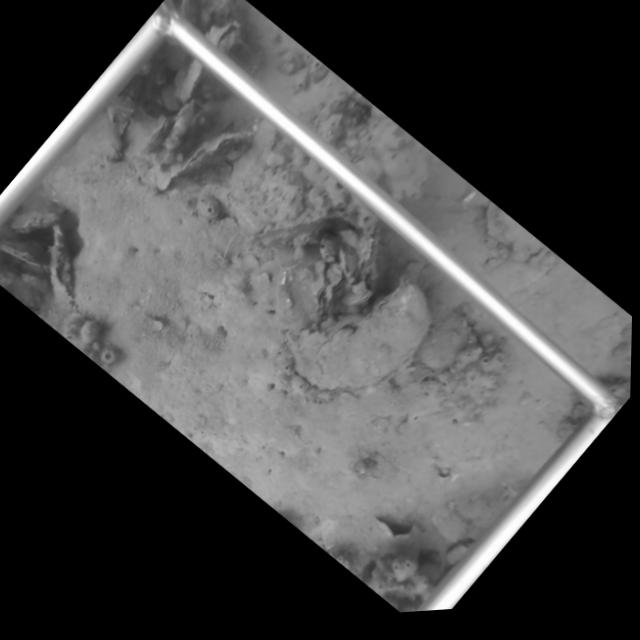Oyster-Closed: (281, 277, 435, 393), (151, 129, 253, 198), (43, 224, 85, 317), (12, 196, 68, 237), (355, 218, 381, 283), (0, 239, 44, 271), (309, 255, 328, 327), (180, 60, 210, 104), (338, 286, 374, 309)
Oyster-Indeterminate: (481, 201, 550, 258), (419, 312, 476, 371), (104, 104, 137, 163)
Oyster-Open: (202, 22, 244, 57)
